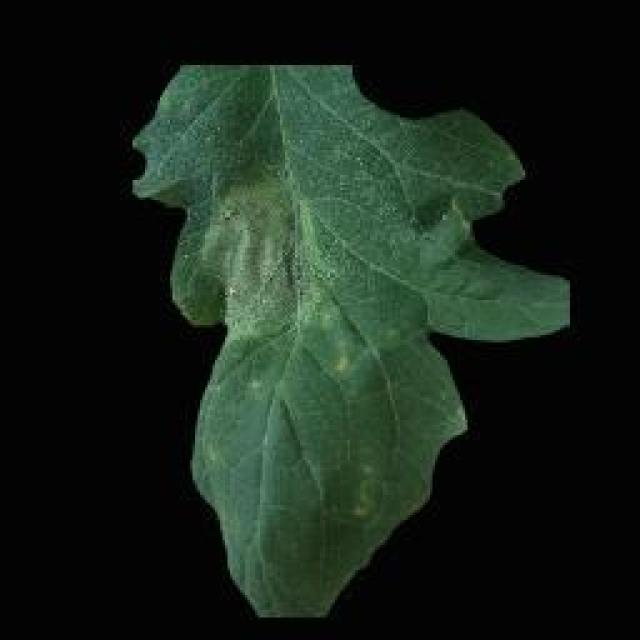Tomato Late Blight: (192, 185, 462, 442)
